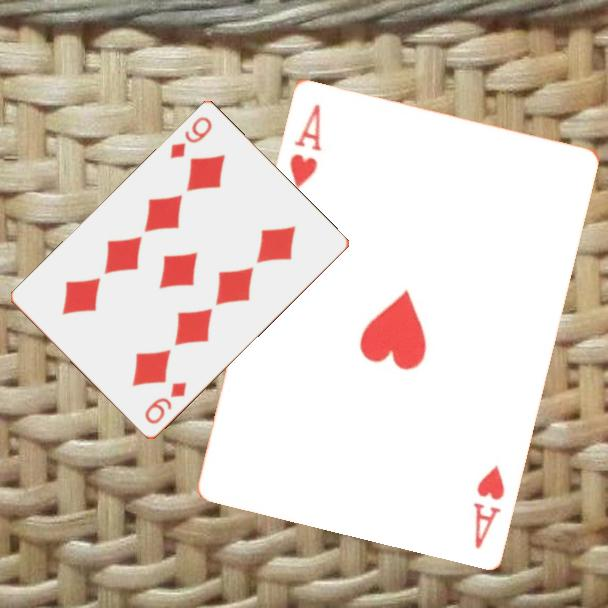d09: (166, 113, 215, 162), (141, 379, 189, 427)
h01: (285, 99, 324, 191), (469, 460, 507, 551)
